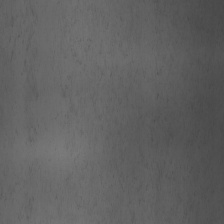silk_spot: (62, 16, 178, 170)
